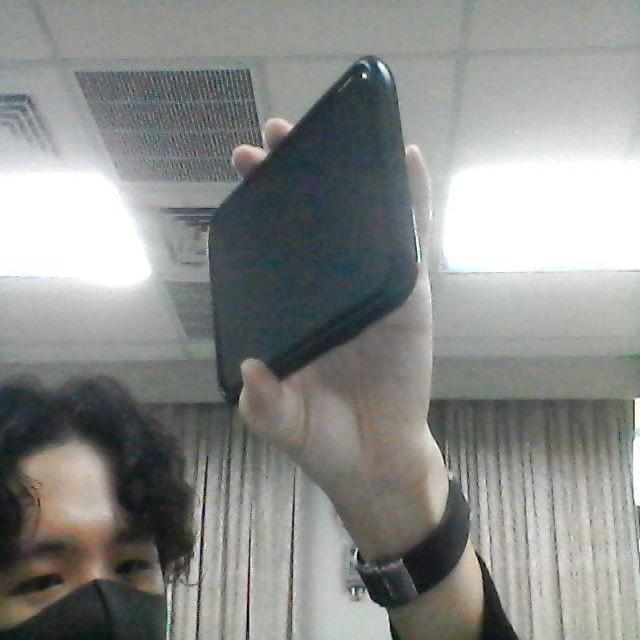phone: (201, 46, 428, 412)
